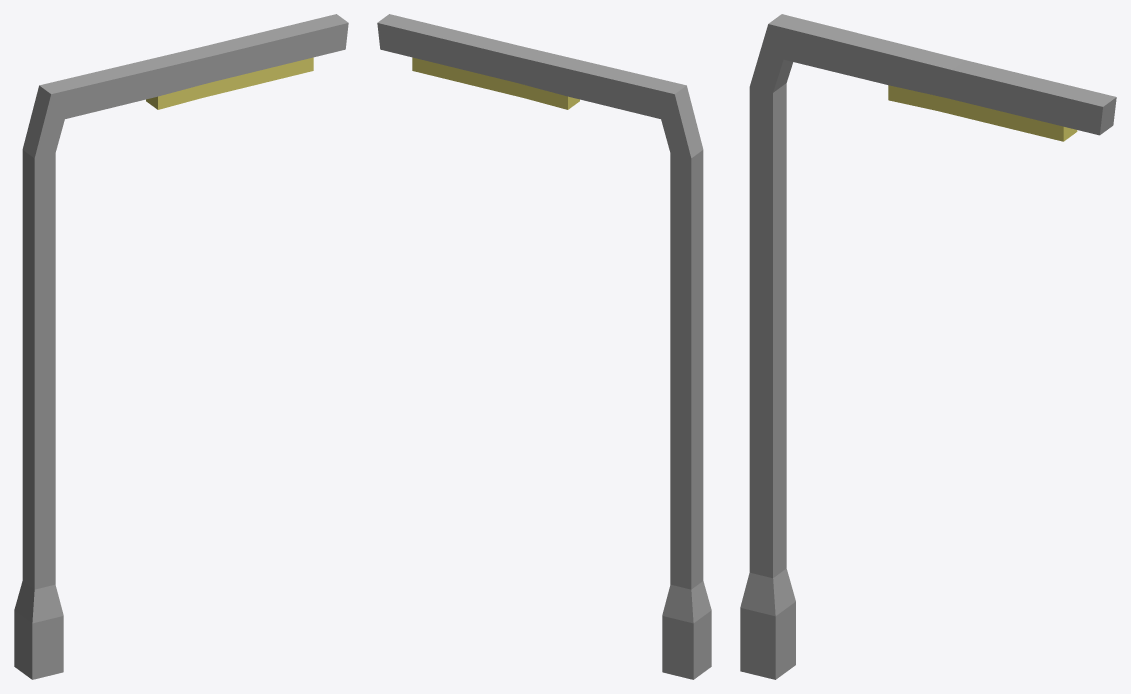
The model's file is PH_Lampadaire.fbx.
The picture shows the model from 3 angles, left to right: view 1: azimuth 30°, elevation 25°; view 2: azimuth 150°, elevation 25°; view 3: azimuth 330°, elevation 25°; orthographic projection. The views are drawn at different scales.
Visible parts, largest first — view 1: pCube2; view 2: pCube2; view 3: pCube2.
Part boxes in pixels (box(x1,y1,x2,y2)): pCube2: box(14, 14, 348, 679); pCube2: box(377, 14, 711, 679); pCube2: box(740, 14, 1116, 679).
Size of the model in its own units: 10.17 by 17.59 by 1.
